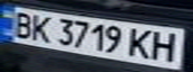1: (87, 20, 109, 52)
3: (51, 16, 75, 47)
7: (69, 18, 90, 50)
9: (103, 22, 127, 55)
B: (6, 9, 39, 39)
H: (148, 29, 184, 63)
K: (124, 26, 157, 60), (27, 12, 54, 44)
